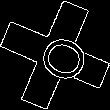O_NW: (23, 25, 87, 85)
